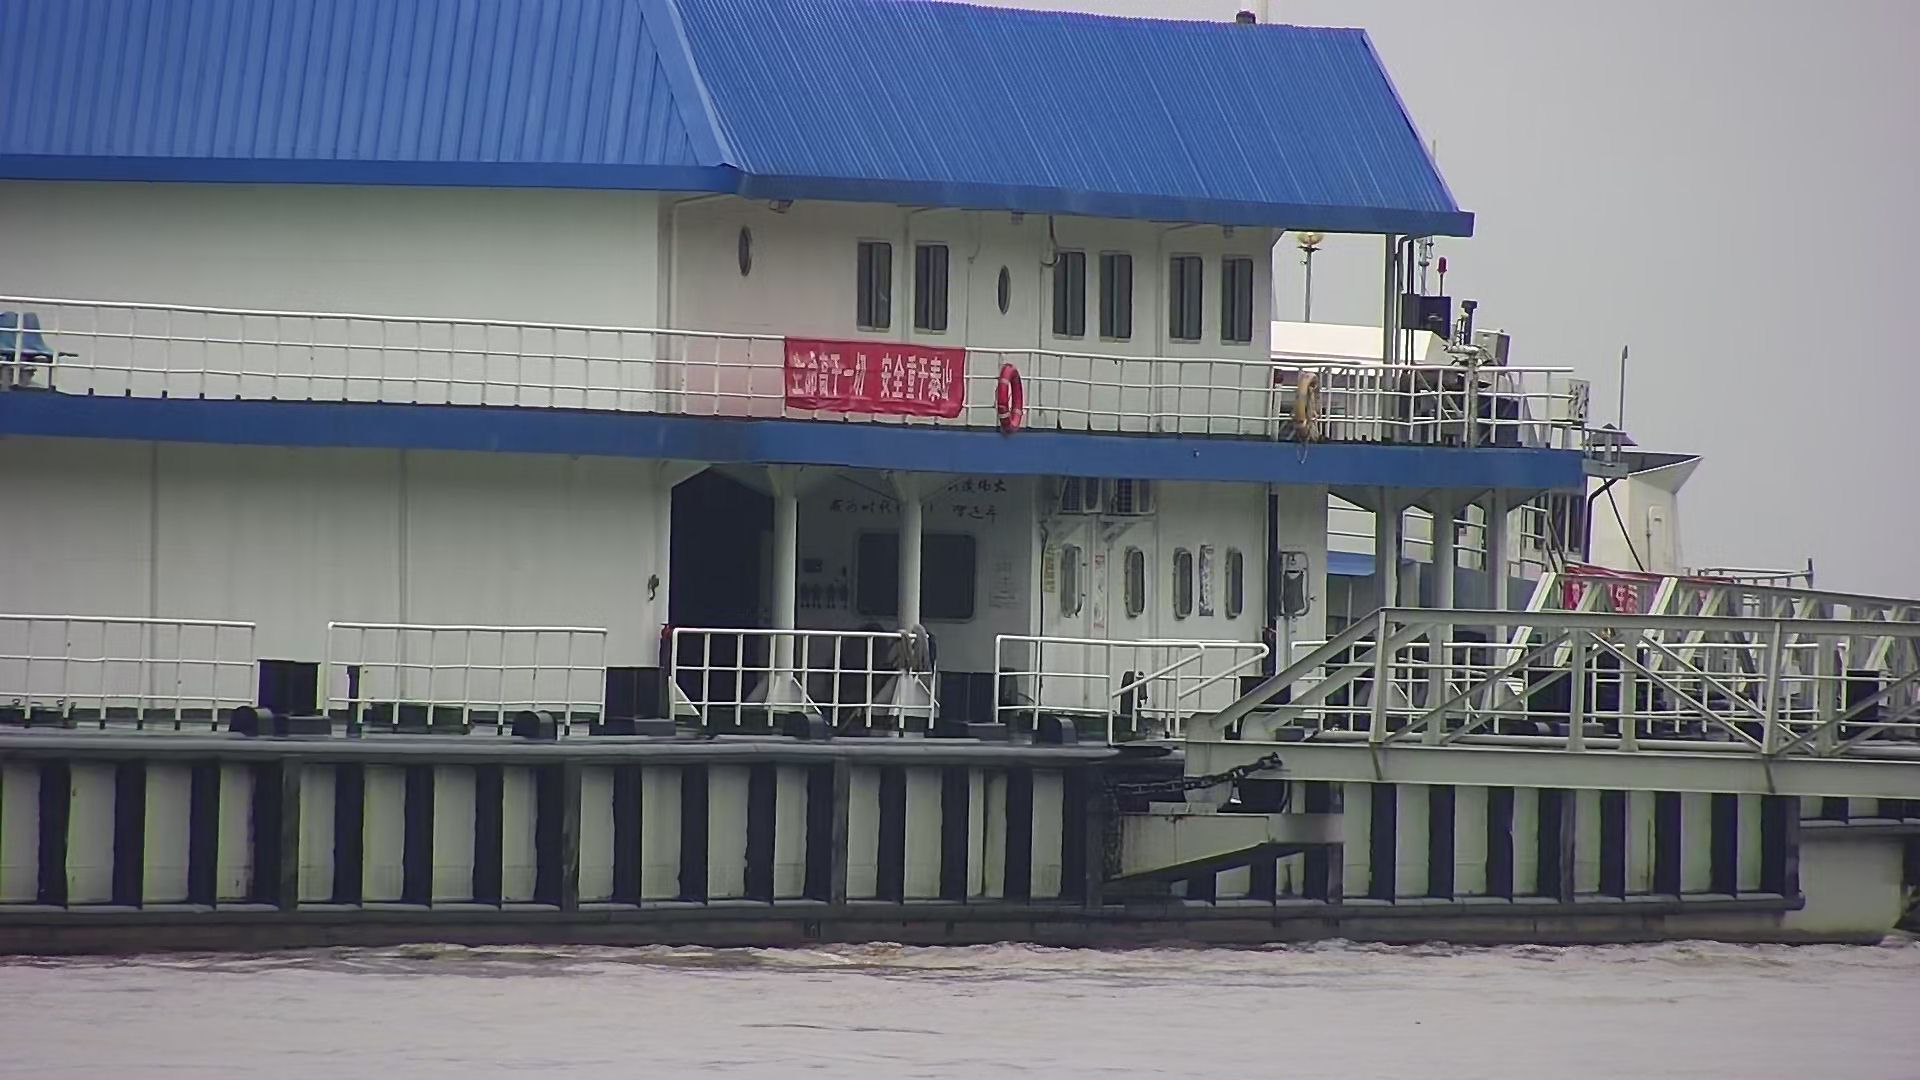ship: (3, 1, 1895, 956)
